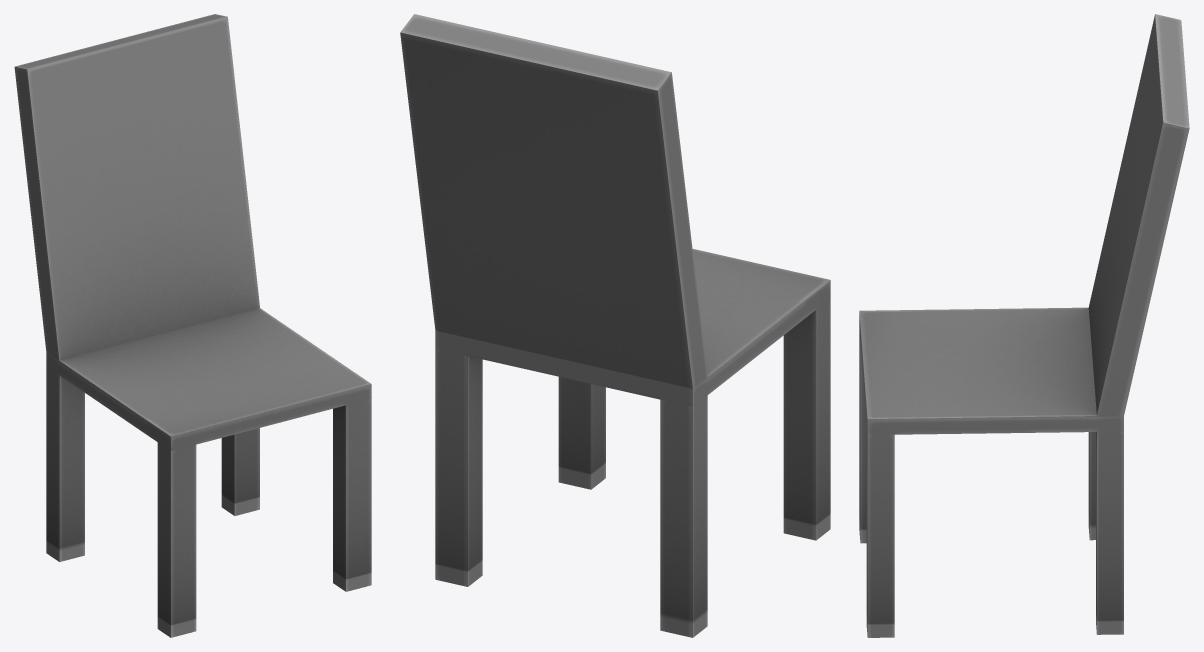
The model's file is bar_mesh.007_lev1.glb.
The picture shows the model from 3 angles, left to right: view 1: azimuth 30°, elevation 25°; view 2: azimuth 150°, elevation 25°; view 3: azimuth 270°, elevation 25°; orthographic projection. The views are drawn at different scales.
Visible parts, largest first — view 1: bar_mesh.007_lev1; view 2: bar_mesh.007_lev1; view 3: bar_mesh.007_lev1.
Boxes of the visible parts, x1=… form: bar_mesh.007_lev1: x1=14, y1=14, x2=371, y2=637; bar_mesh.007_lev1: x1=400, y1=14, x2=830, y2=637; bar_mesh.007_lev1: x1=859, y1=14, x2=1189, y2=637.
Size of the model in its own units: 1.36 by 2.88 by 1.69.
1 material, 1 textured.
